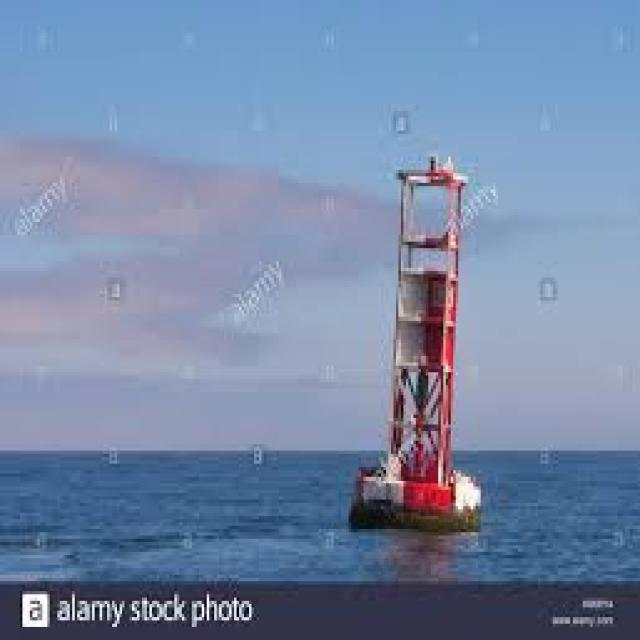2.4 safe water mark: (341, 132, 531, 545)
